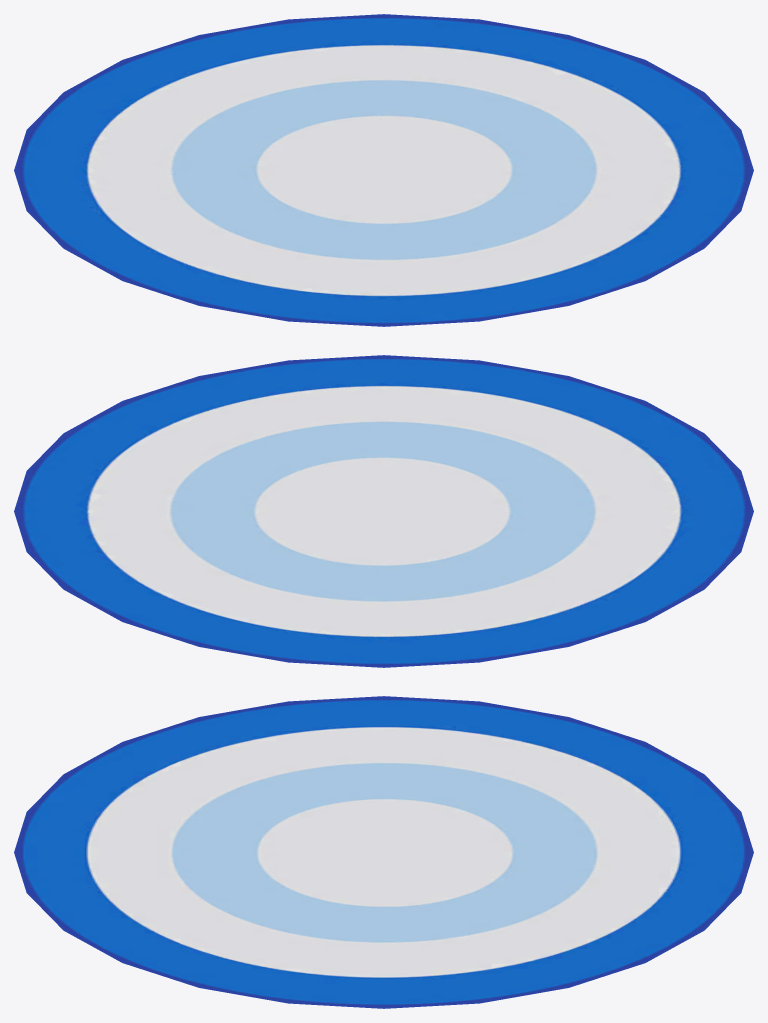
The model's file is my_poolparty_01_b_carpet_02.glb.
3 views of the same model, one above another, from view 1: azimuth 30°, elevation 25°; view 2: azimuth 150°, elevation 25°; view 3: azimuth 270°, elevation 25° (orthographic).
Parts seen in each view (by area): view 1: my_poolparty_01_b_carpet_02; view 2: my_poolparty_01_b_carpet_02; view 3: my_poolparty_01_b_carpet_02.
Boxes of the visible parts, <box> form: my_poolparty_01_b_carpet_02: <box>14,14,753,326</box>; my_poolparty_01_b_carpet_02: <box>14,355,753,667</box>; my_poolparty_01_b_carpet_02: <box>14,696,753,1008</box>.
Size of the model in its own units: 0.0143 by 2.26e-10 by 0.0143.
Materials: 1 (1 with a texture image).
